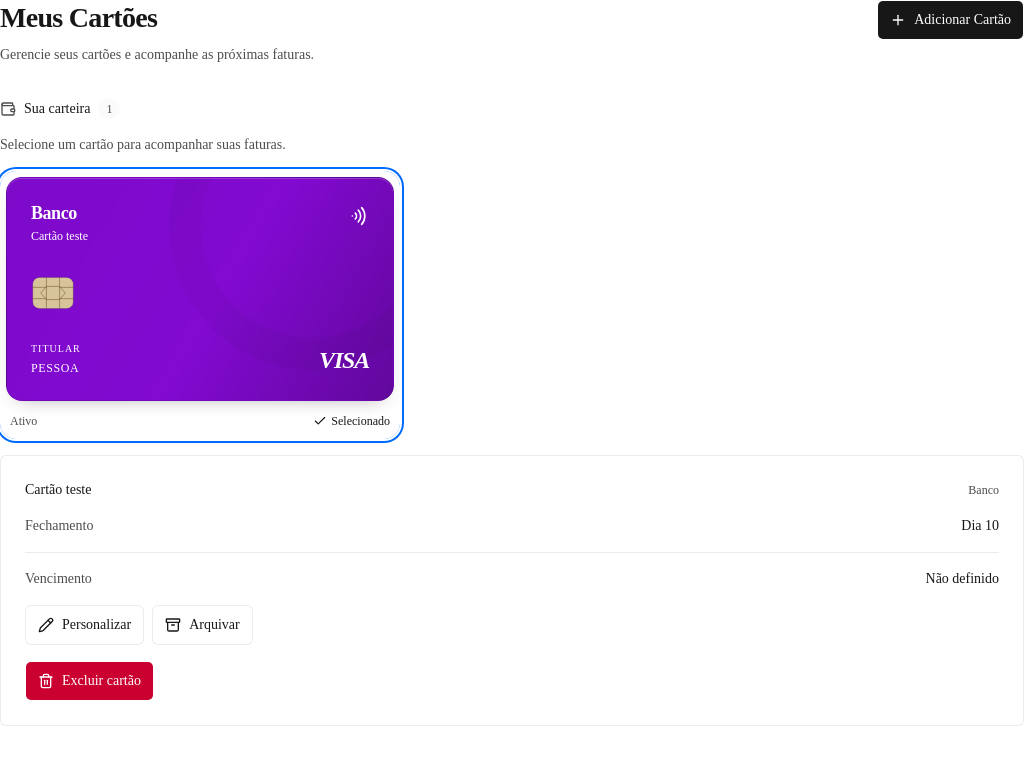
Test: bloqueio preserva confirmação e cartão e permite nova tentativa
Click the button "Excluir cartão": (89, 681) [25, 661, 154, 701]
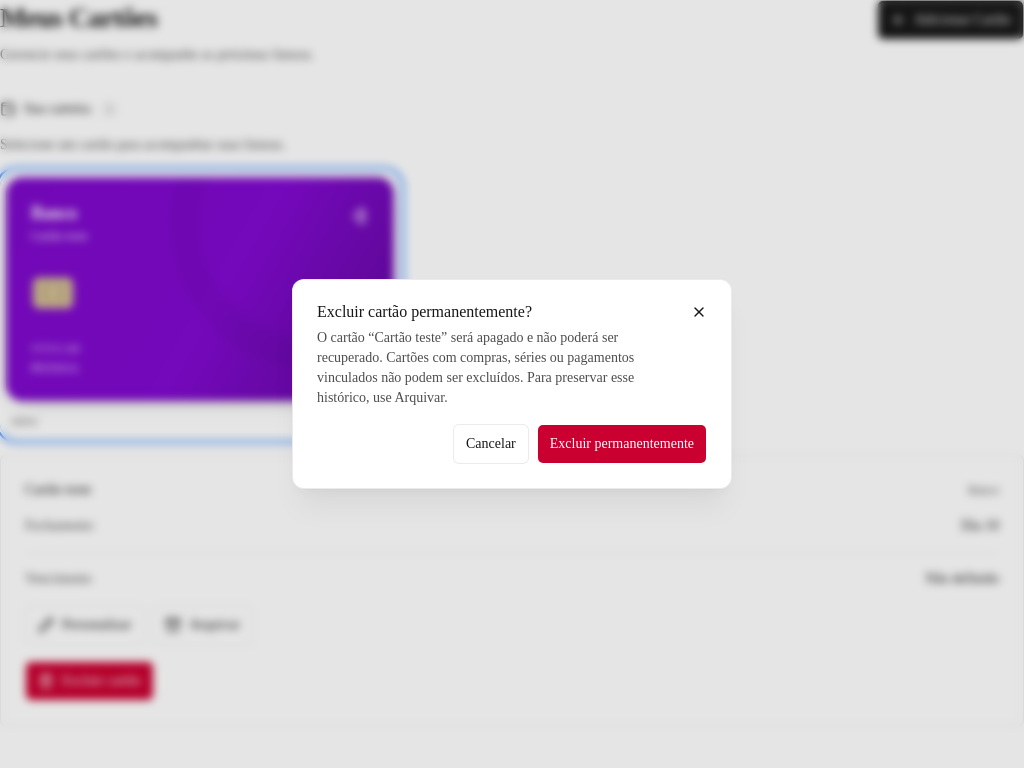
Click the button "Excluir permanentemente": (622, 444) [537, 424, 707, 464]
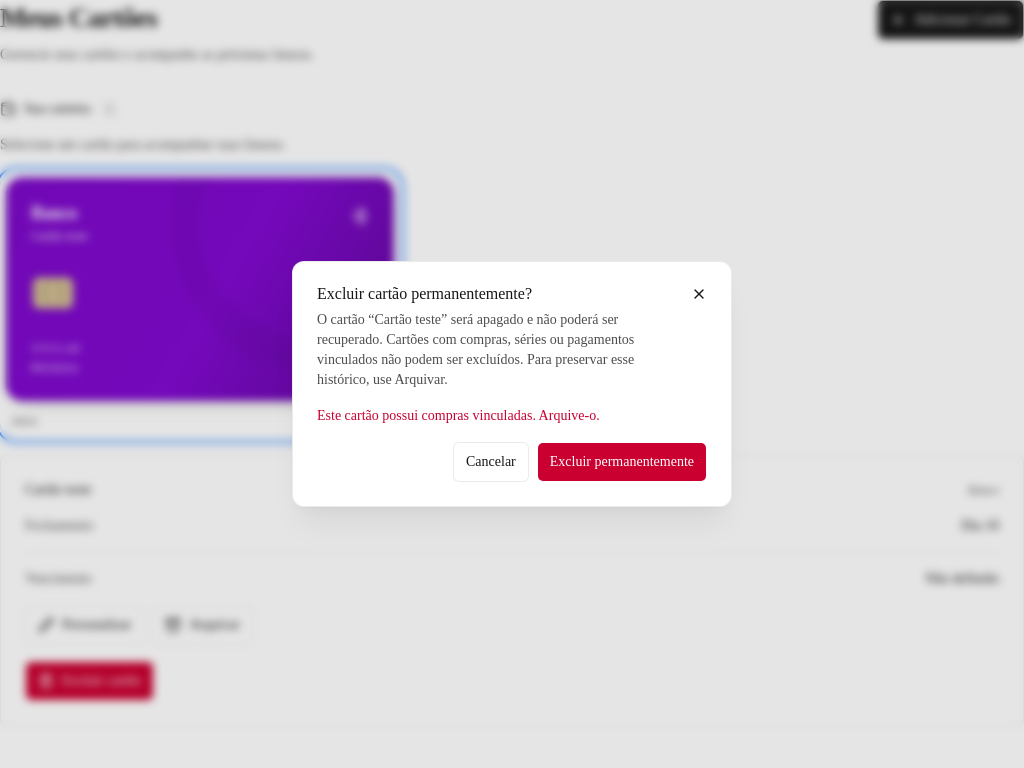
Result: the button "Excluir permanentemente" is enabled at [537, 442, 707, 482]
Result: the message shows "Arquive-o" at [317, 408, 600, 423]
Click the button "Cancelar": (491, 462) [453, 442, 529, 482]
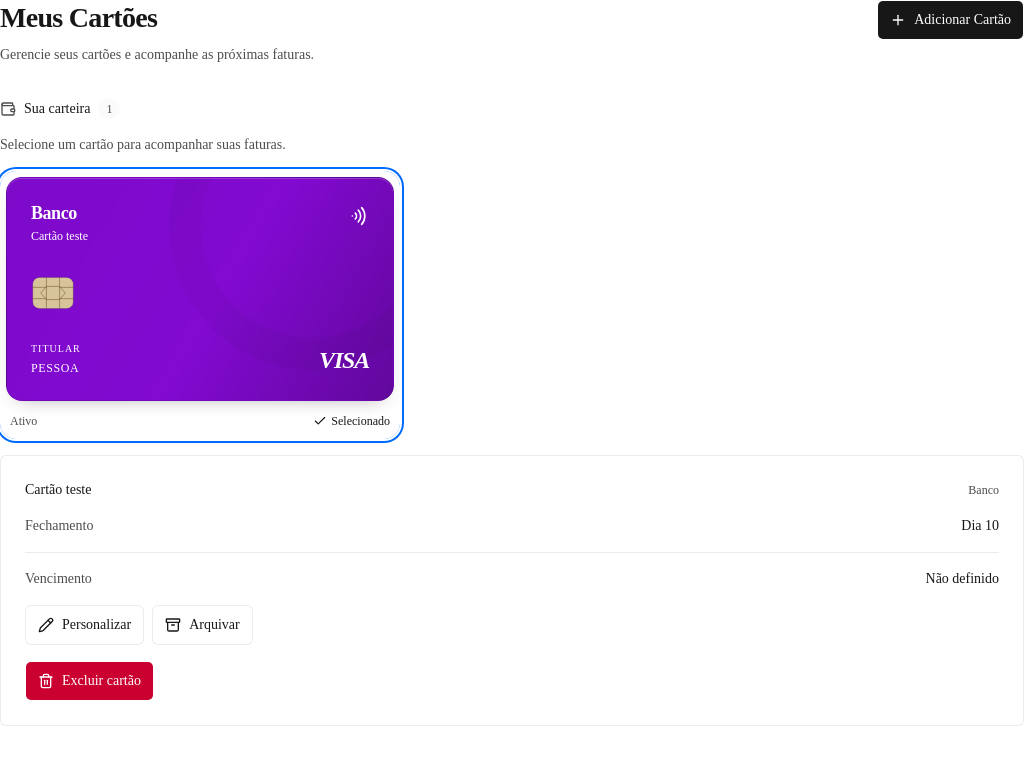
Expected: the button with aria-label "Selecionar cartão Cartão teste" is shown, [0, 171, 400, 439]
Result: the dialog is gone
